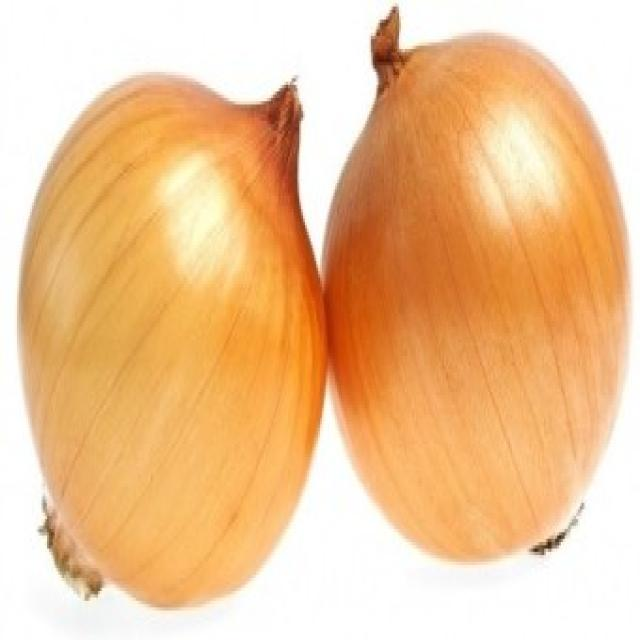onion: (15, 54, 327, 620), (336, 12, 633, 574)
